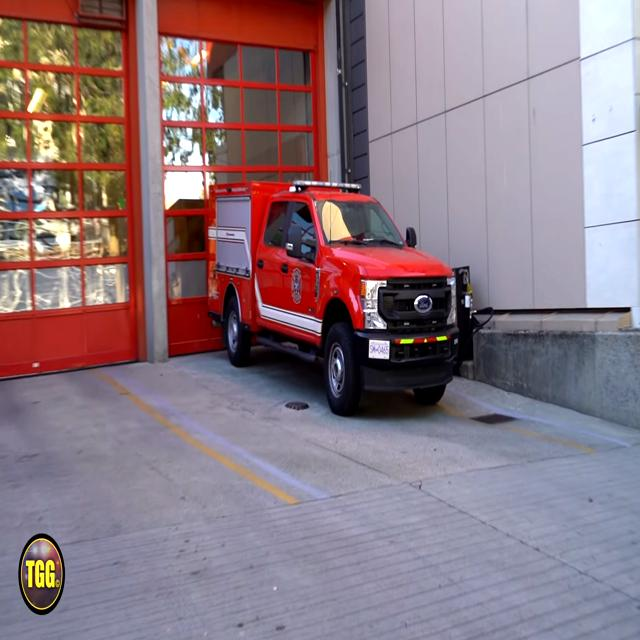emergency-vehicles: (186, 173, 509, 430)
